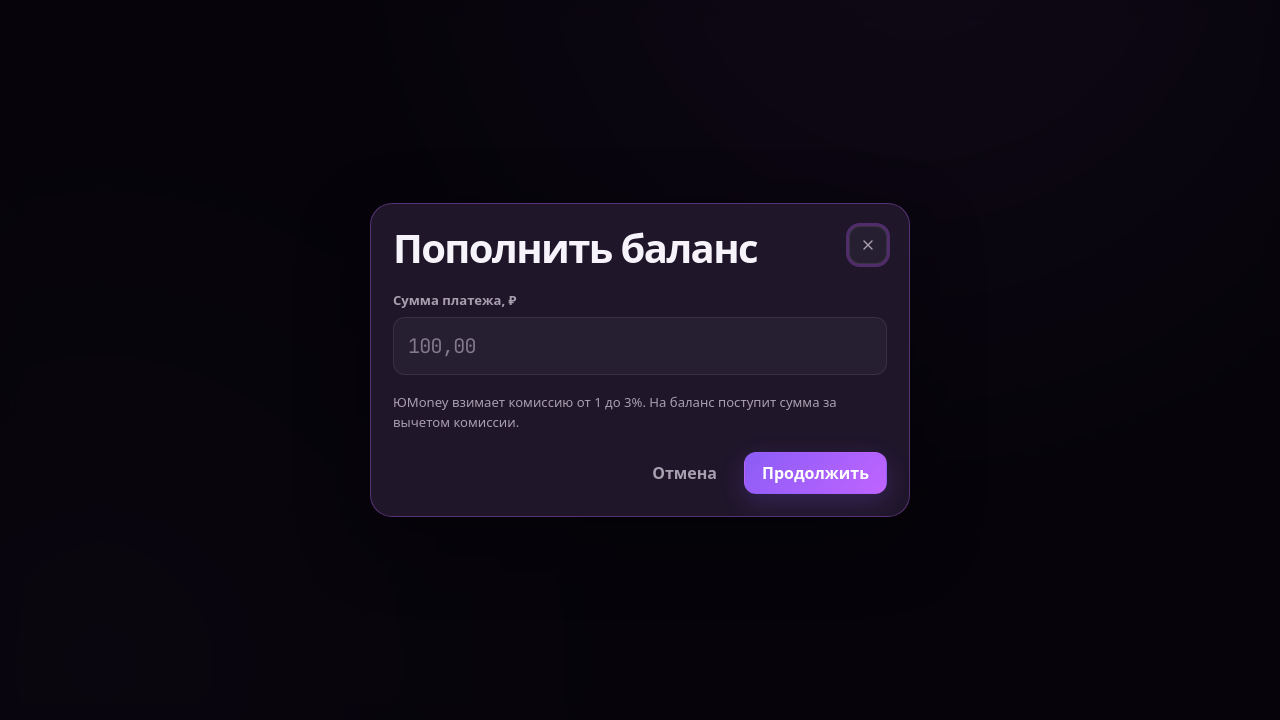
Test: TopUpModal › shows an amount error returned by the API
Type "100" into the number field labelled "Сумма платежа, ₽".
click(640, 346); type("100")  # box [393,317,887,375]
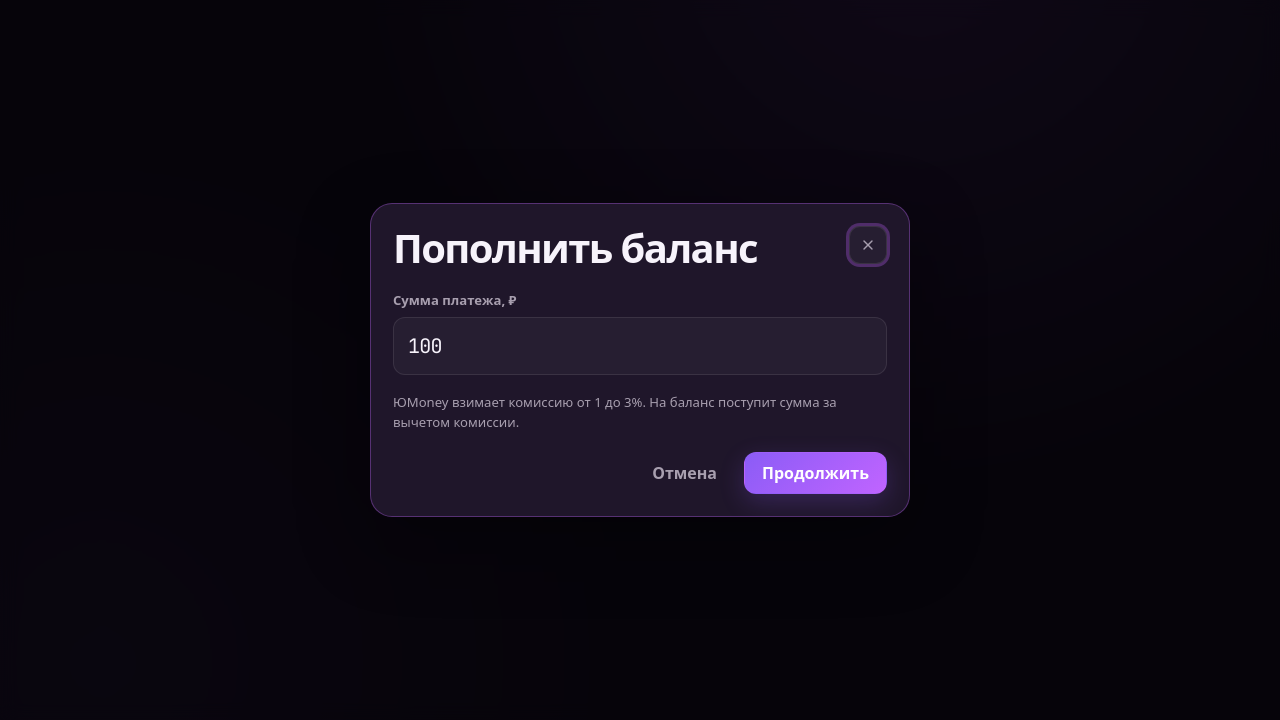
Click the button "Продолжить".
click(816, 473)  # box [744,452,887,494]
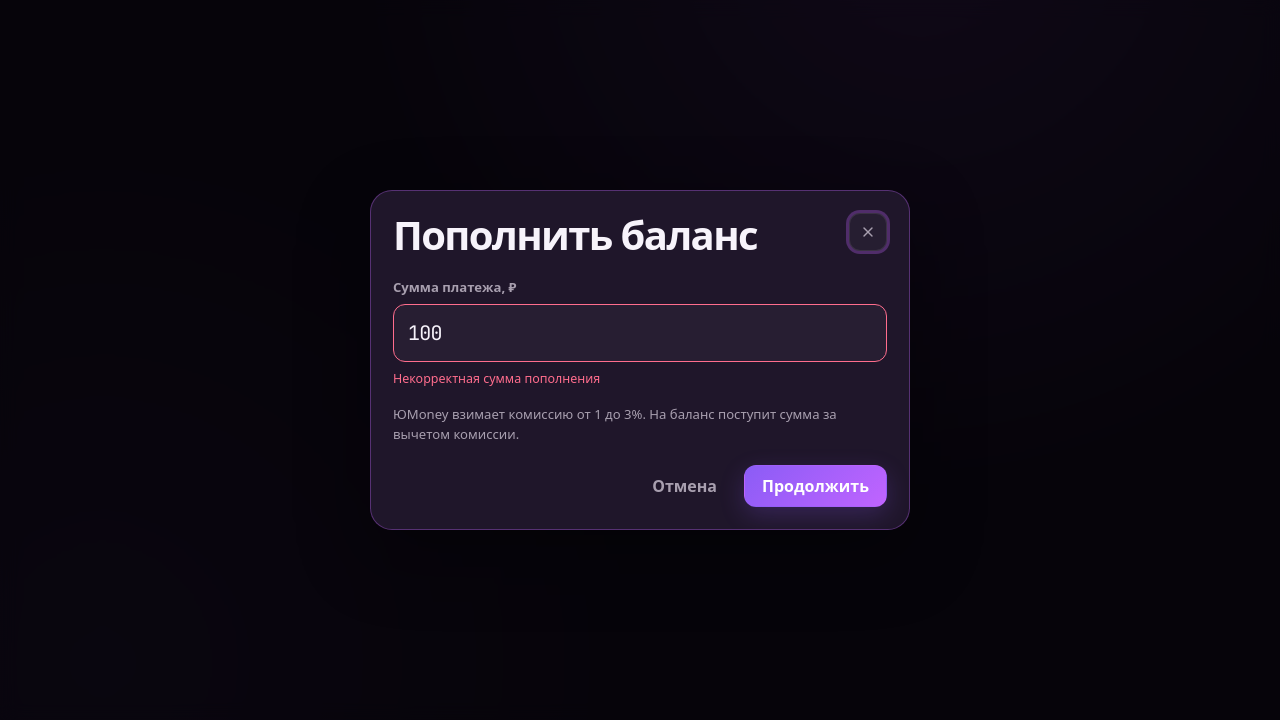
Check: the text "Некорректная сумма пополнения" is shown, box [393,370,600,387]
